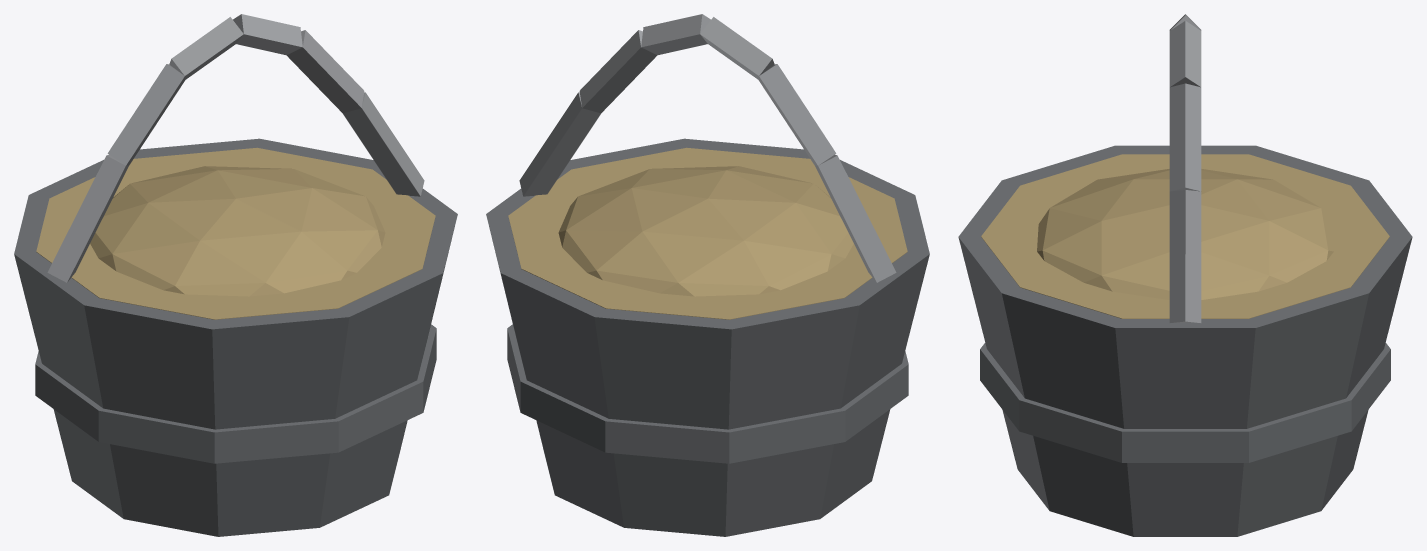
Rendered from feed_bucket.glb.
The picture shows the model from 3 angles, left to right: view 1: azimuth 30°, elevation 25°; view 2: azimuth 150°, elevation 25°; view 3: azimuth 270°, elevation 25°; orthographic projection.
Visible parts, largest first — view 1: feed_bucket; view 2: feed_bucket; view 3: feed_bucket.
Part boxes in pixels (box(x1,y1,x2,y2)): feed_bucket: box(14, 14, 457, 536); feed_bucket: box(486, 14, 929, 536); feed_bucket: box(958, 14, 1412, 536).
Bounding box in the file's own units: 0.4414 × 0.5046 × 0.46.
